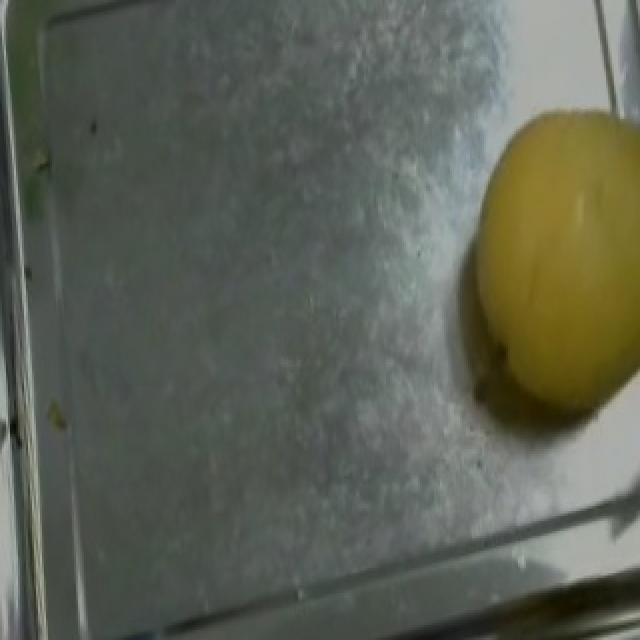fruit: (440, 84, 640, 454)
